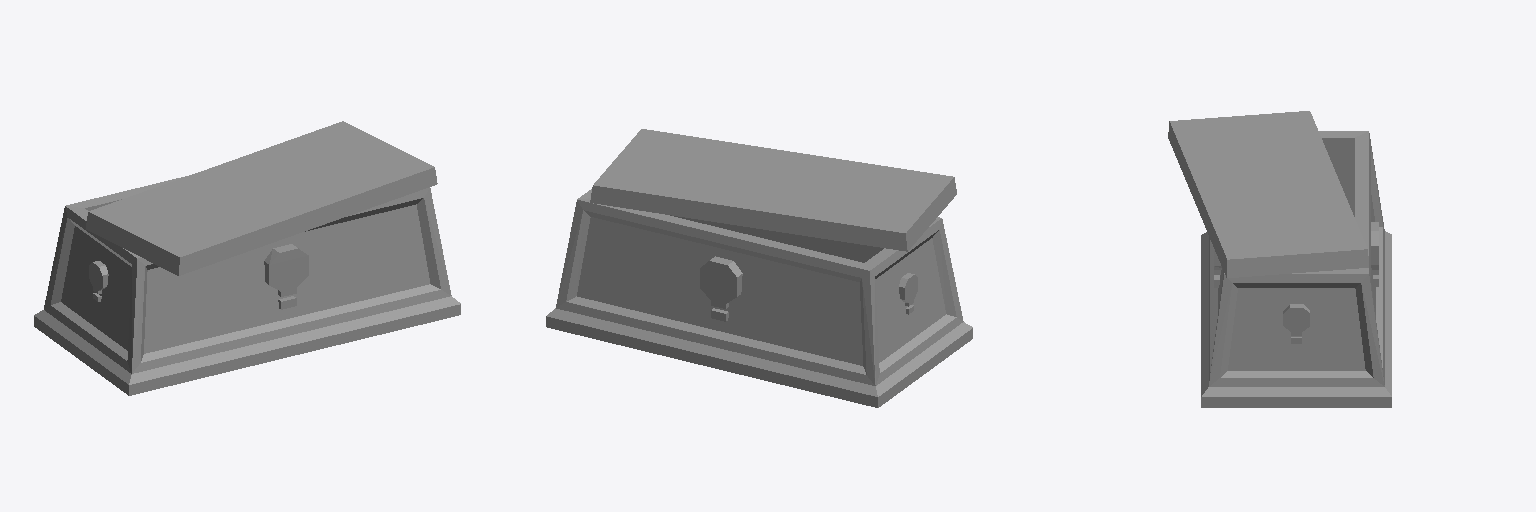
The picture shows the model from 3 angles: view 1: azimuth 30°, elevation 25°; view 2: azimuth 150°, elevation 25°; view 3: azimuth 270°, elevation 25°; orthographic projection.
Visible parts, largest first — view 1: Sarcofagus; view 2: Sarcofagus; view 3: Sarcofagus.
Boxes of the visible parts, x1=… form: Sarcofagus: x1=34, y1=121, x2=460, y2=395; Sarcofagus: x1=546, y1=129, x2=972, y2=407; Sarcofagus: x1=1168, y1=111, x2=1391, y2=407.
Size of the model in its own units: 2.23 by 0.9068 by 1.3.